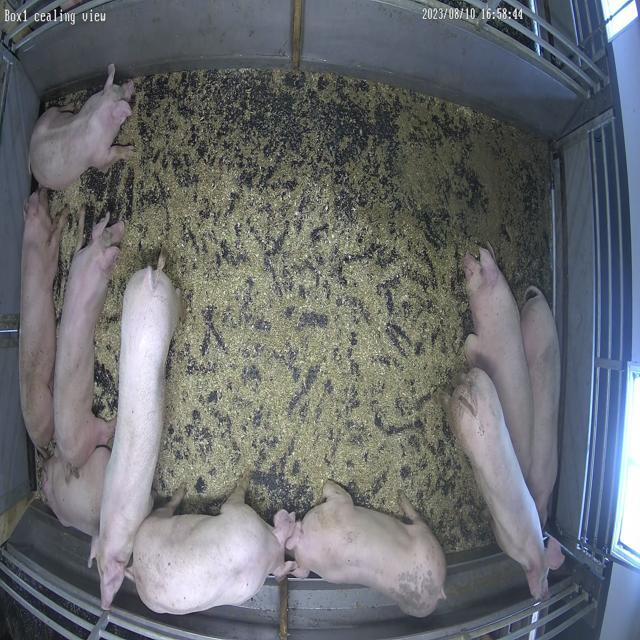Pig: (53, 216, 124, 468), (28, 64, 134, 190)
